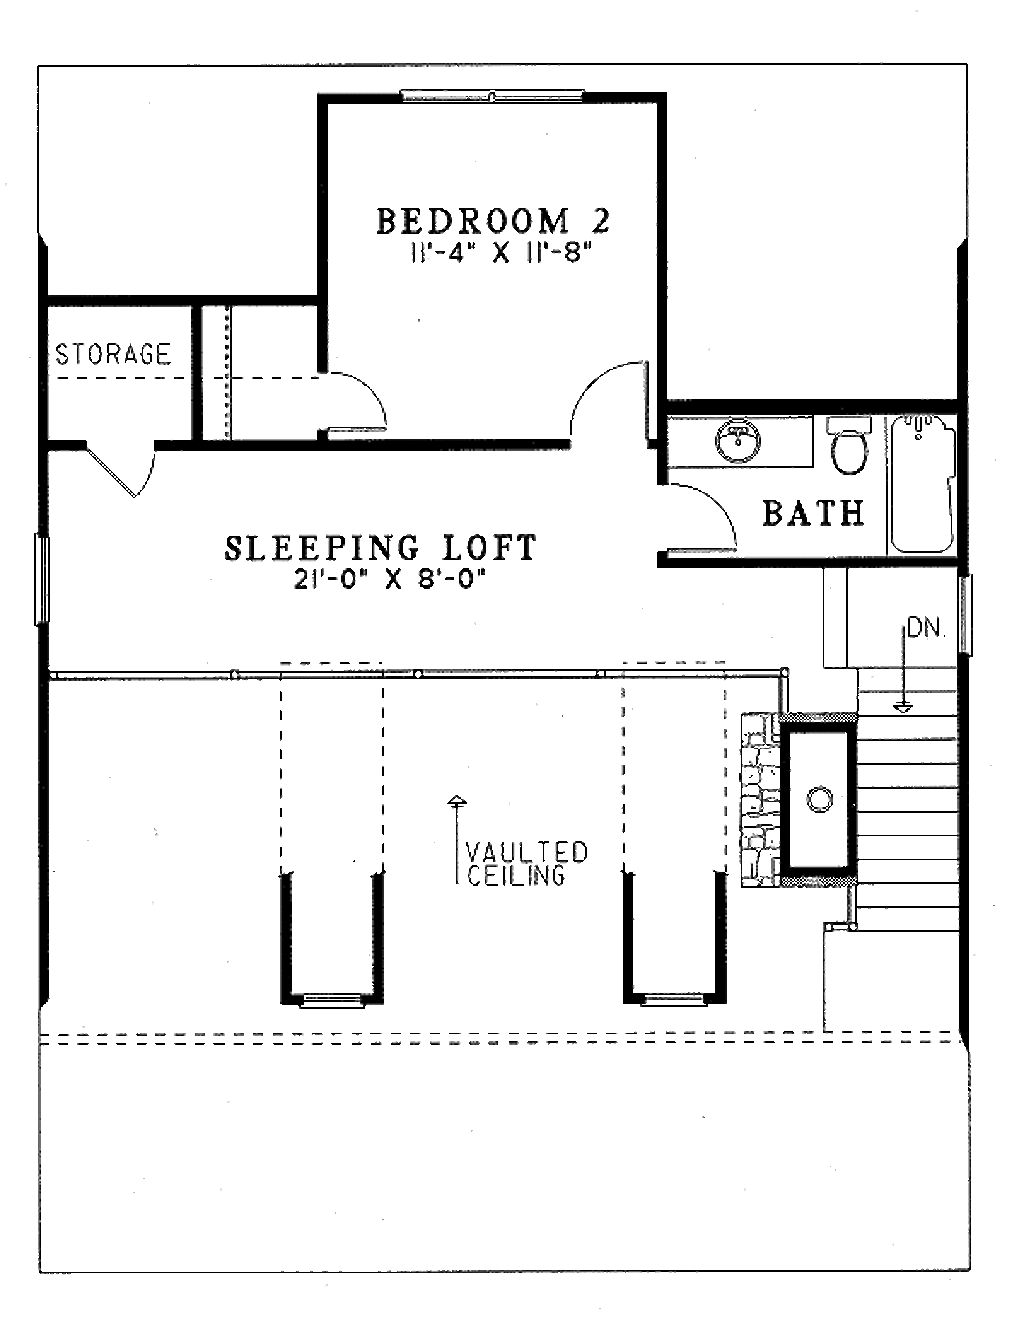door: (566, 349, 657, 439), (305, 357, 386, 439), (662, 474, 739, 555), (86, 437, 166, 502)
large_sink: (815, 412, 882, 490)
small_sink: (686, 406, 792, 470)
stairs: (851, 665, 962, 994)
tub: (882, 417, 964, 561)
window: (400, 84, 592, 106), (37, 533, 55, 629)
